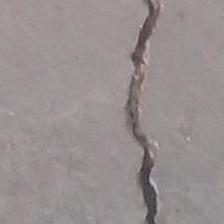Crack: (8, 1, 224, 224)
